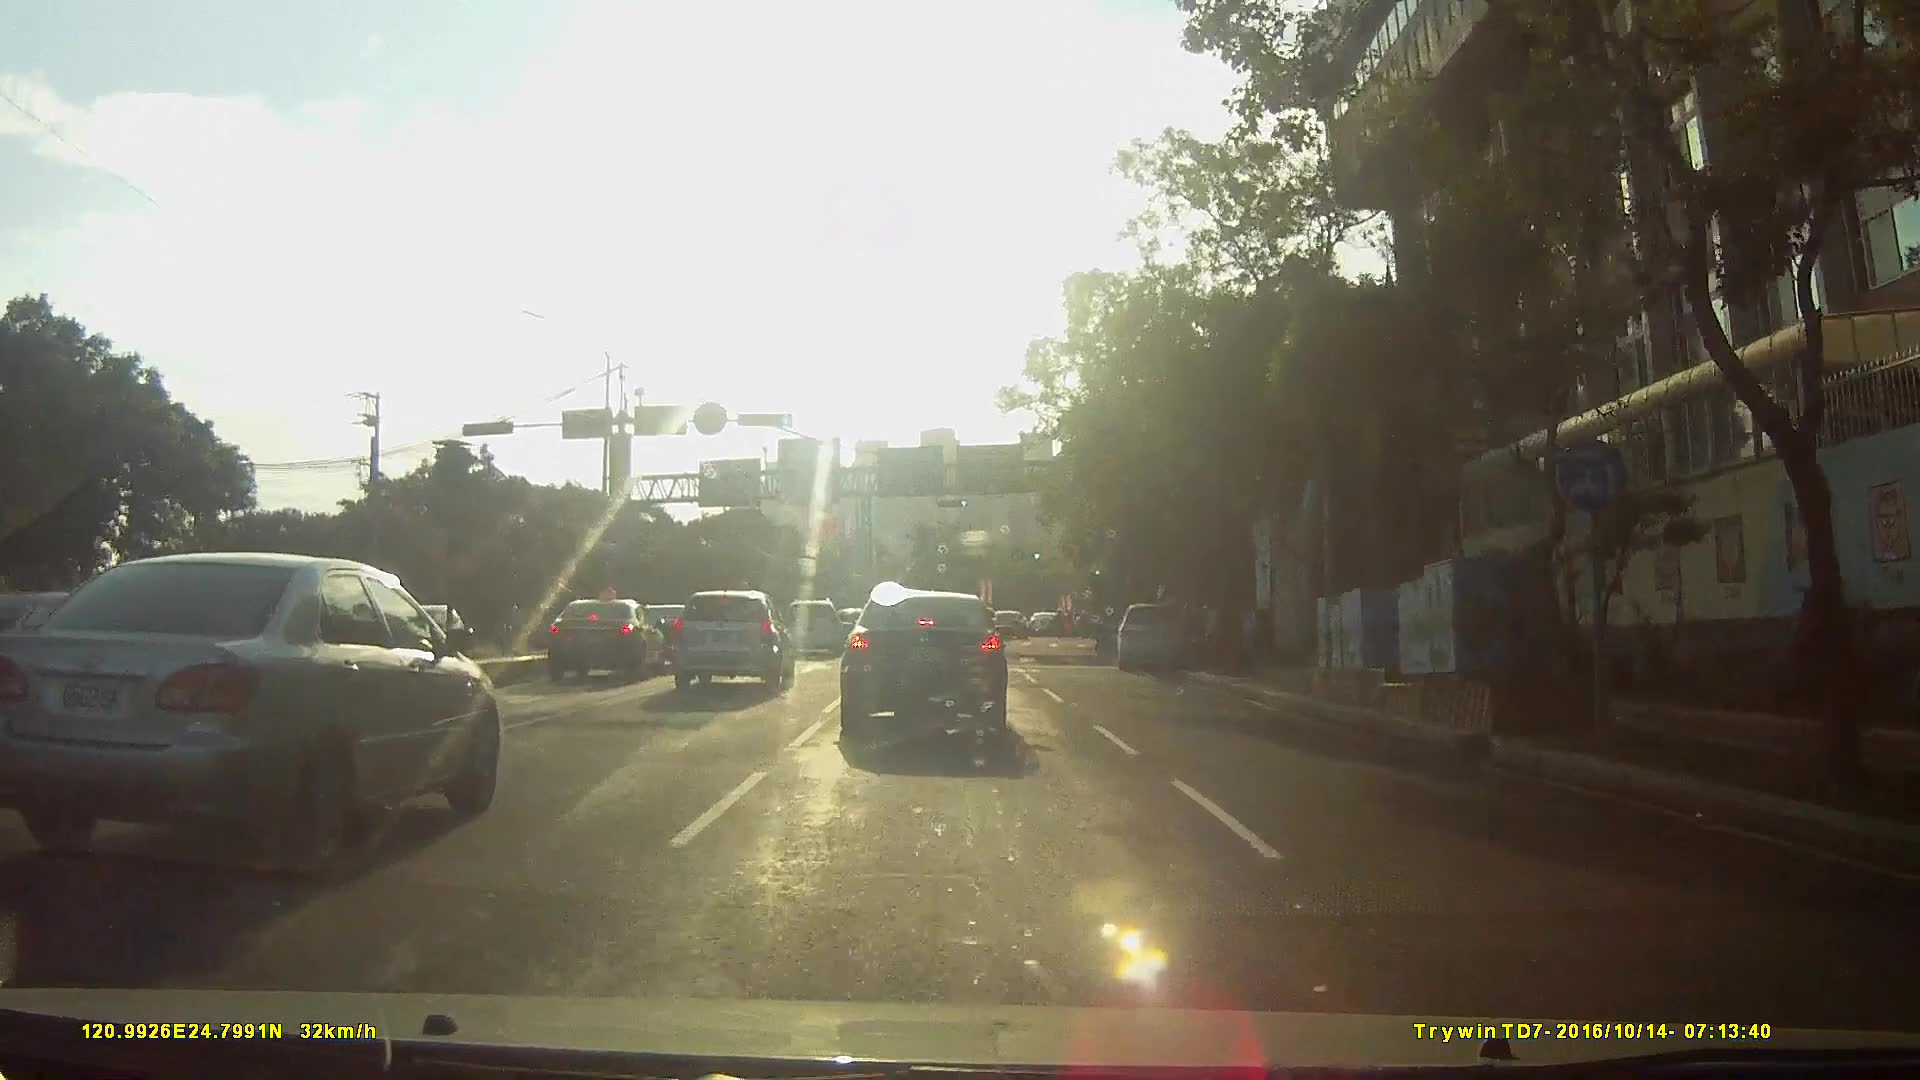pedestrian: (1198, 599, 1220, 660)
vehicle: (1, 545, 517, 886), (829, 602, 1024, 770), (663, 585, 793, 691), (524, 593, 653, 684), (1119, 597, 1200, 672), (619, 598, 691, 663), (779, 595, 847, 657), (990, 603, 1029, 635), (1026, 607, 1068, 635)
